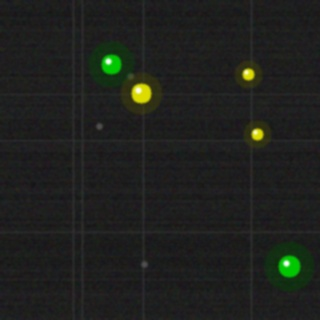green_normal: (276, 253, 302, 279), (99, 52, 123, 76)
yellow_warning: (129, 81, 153, 105), (240, 66, 256, 82), (249, 126, 265, 142)
